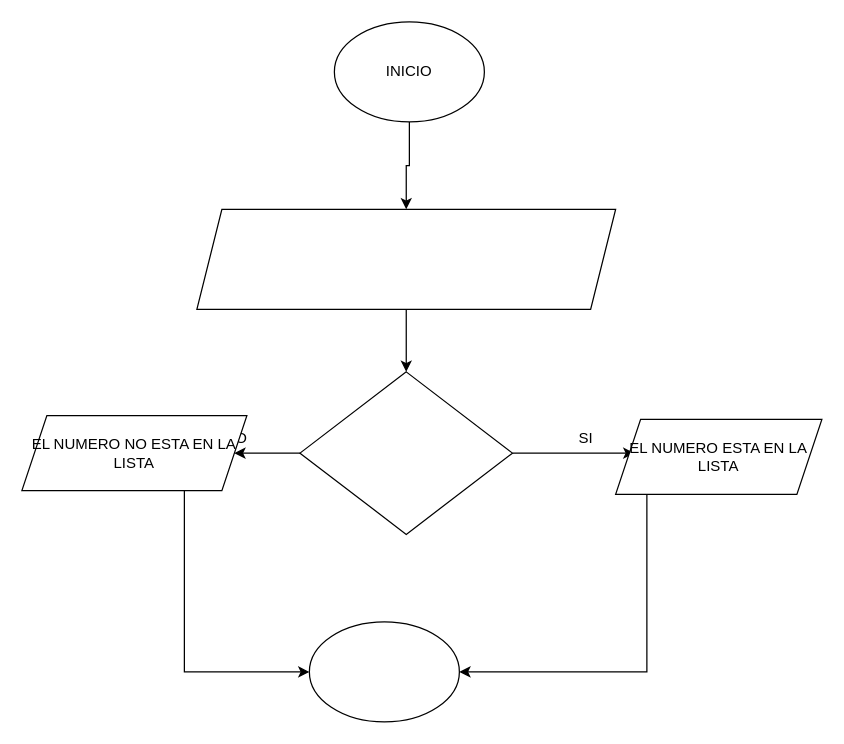
Image size: 844x744. Some labels were removed from this diagram. Here are the shapes that lost their labels. From the top down, the centre of each, then its label:
point 406,258: digite un numero del 1 al 10 y te diré si esta en la lista
point 405,452: numero in lista
